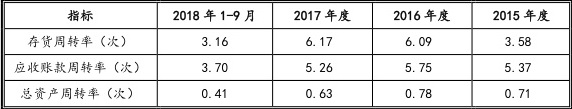column: (15, 1, 139, 109), (173, 1, 254, 109), (294, 1, 350, 109), (394, 1, 450, 109), (494, 2, 549, 109)
row: (5, 9, 572, 23), (1, 87, 572, 100), (4, 61, 572, 73), (1, 35, 572, 45)
